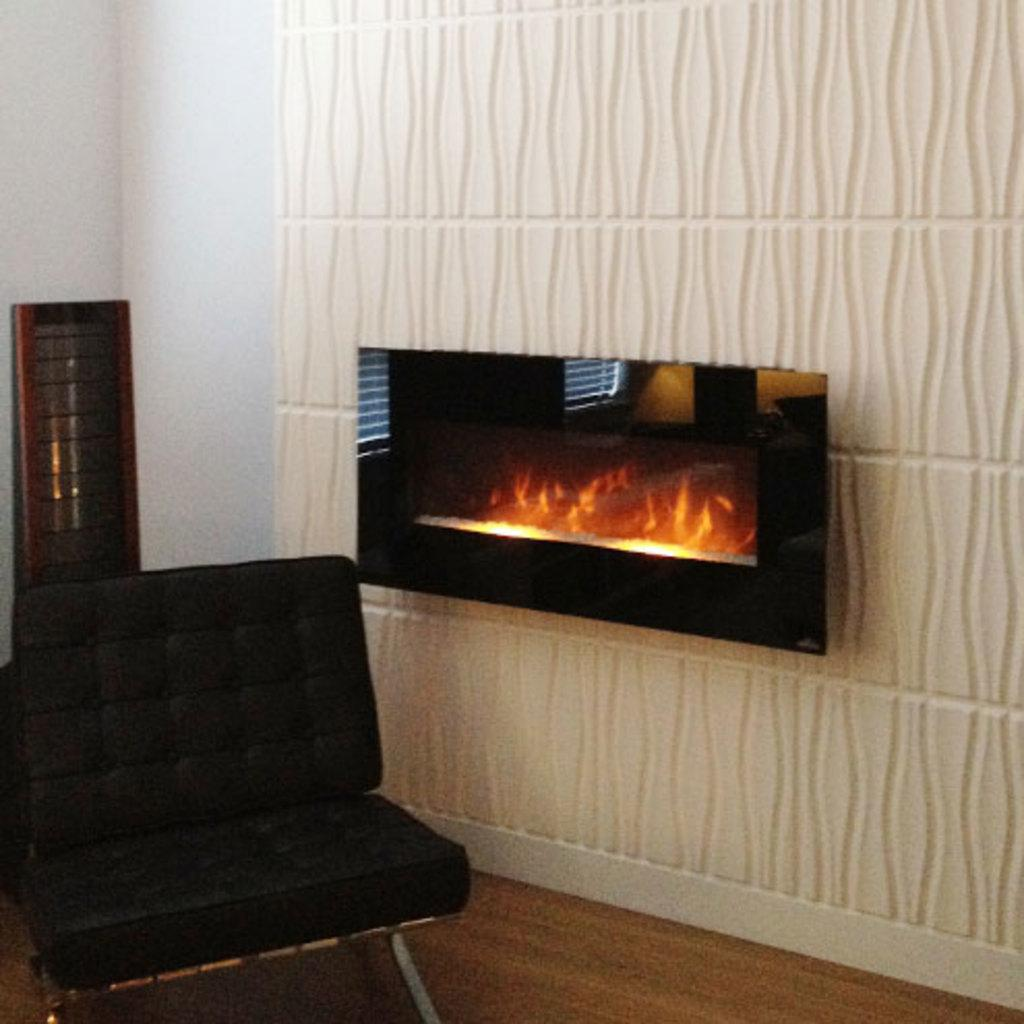Fire: (456, 426, 762, 571)
